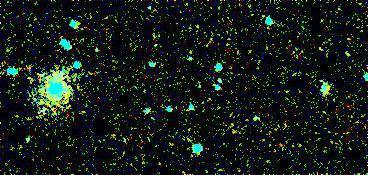star: (32, 71, 62, 101)
